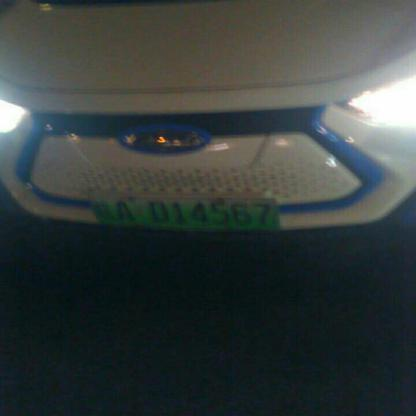lp: (88, 194, 278, 230)
